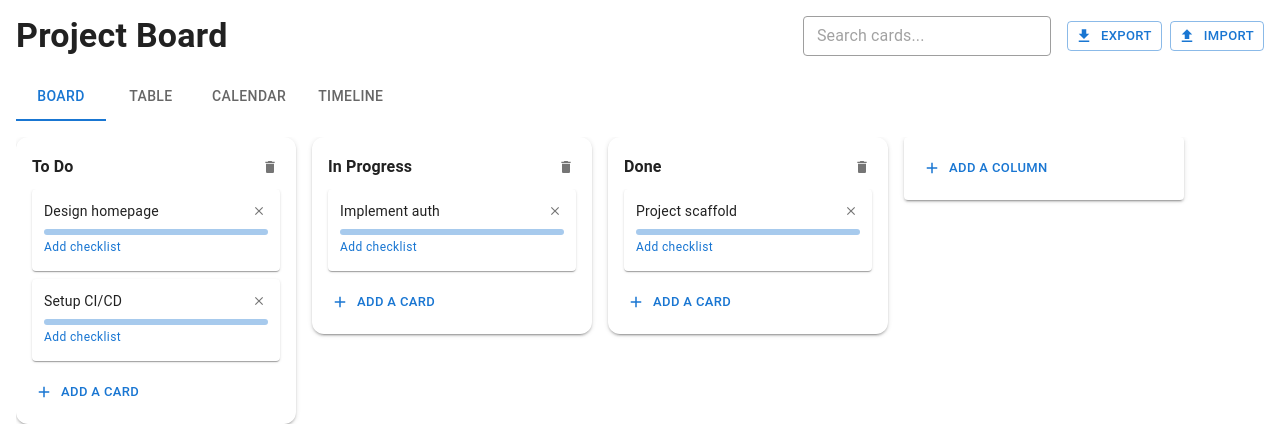
Test: BoardPage › saves card title on Enter
Double-click the text "Design homepage": (101, 211) [44,203,159,219]
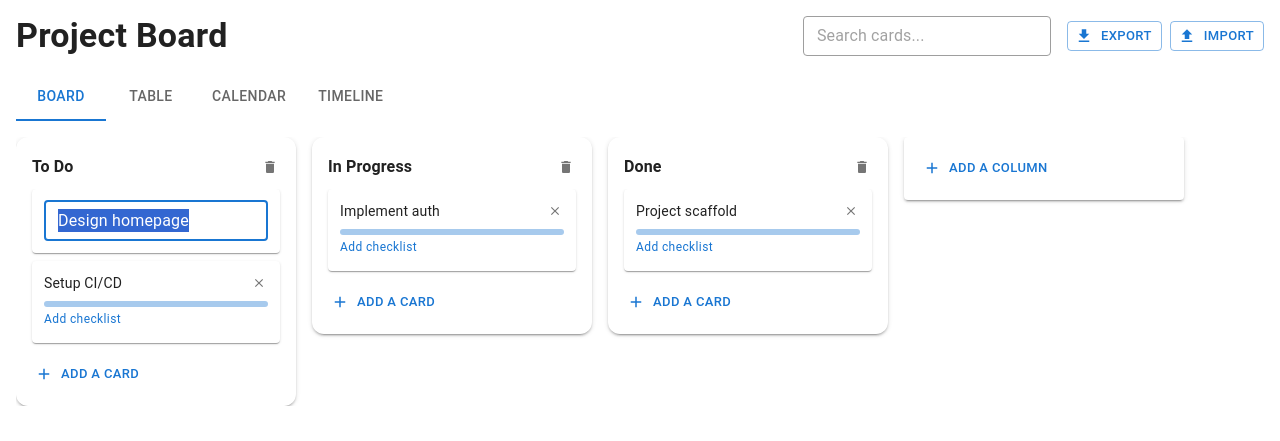
Replace the text in the field showing "Design homepage" with "New Title": (156, 221) [44,201,268,241]
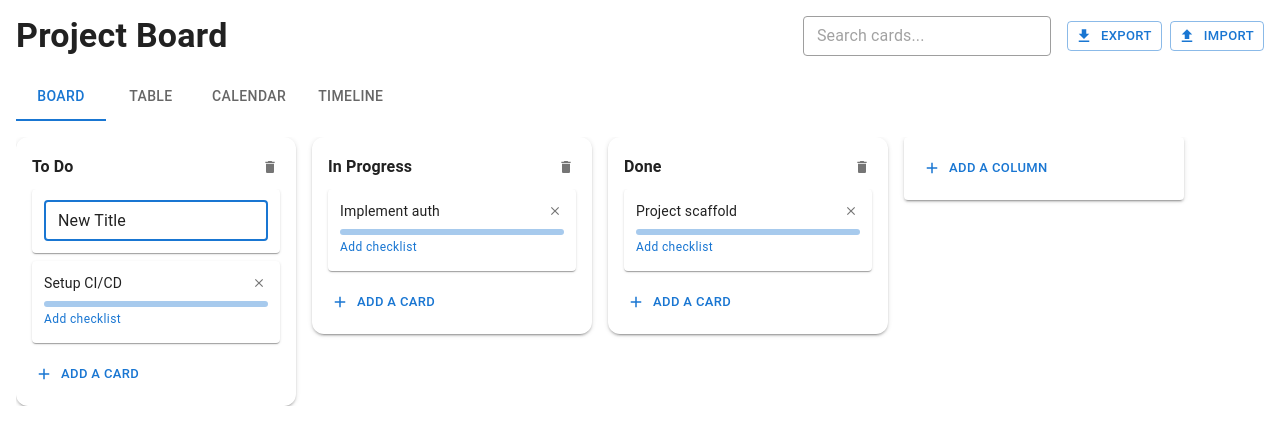
Press Enter in the field showing "Design homepage", box [44,201,268,241]
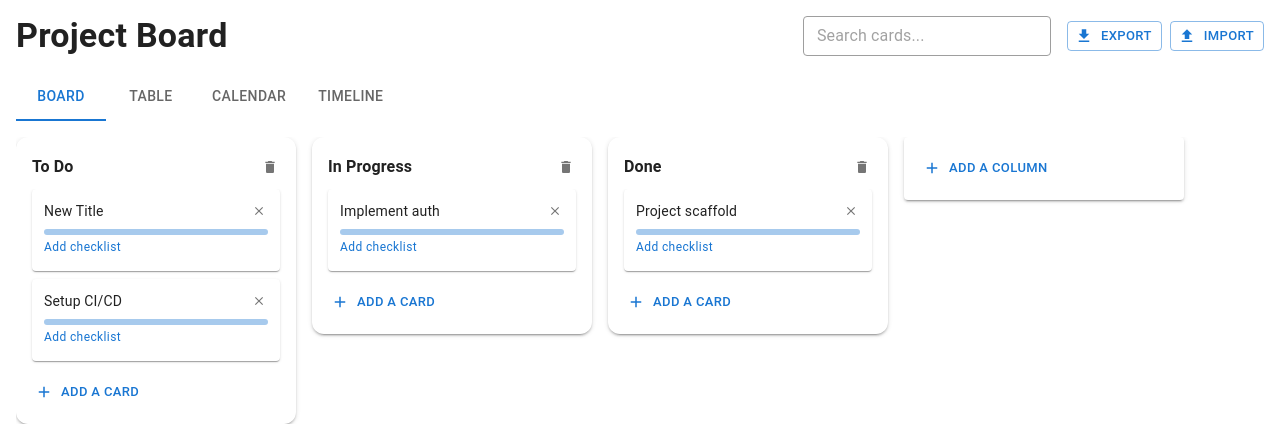
Now the text "New Title" is shown, box [44,203,104,219]
